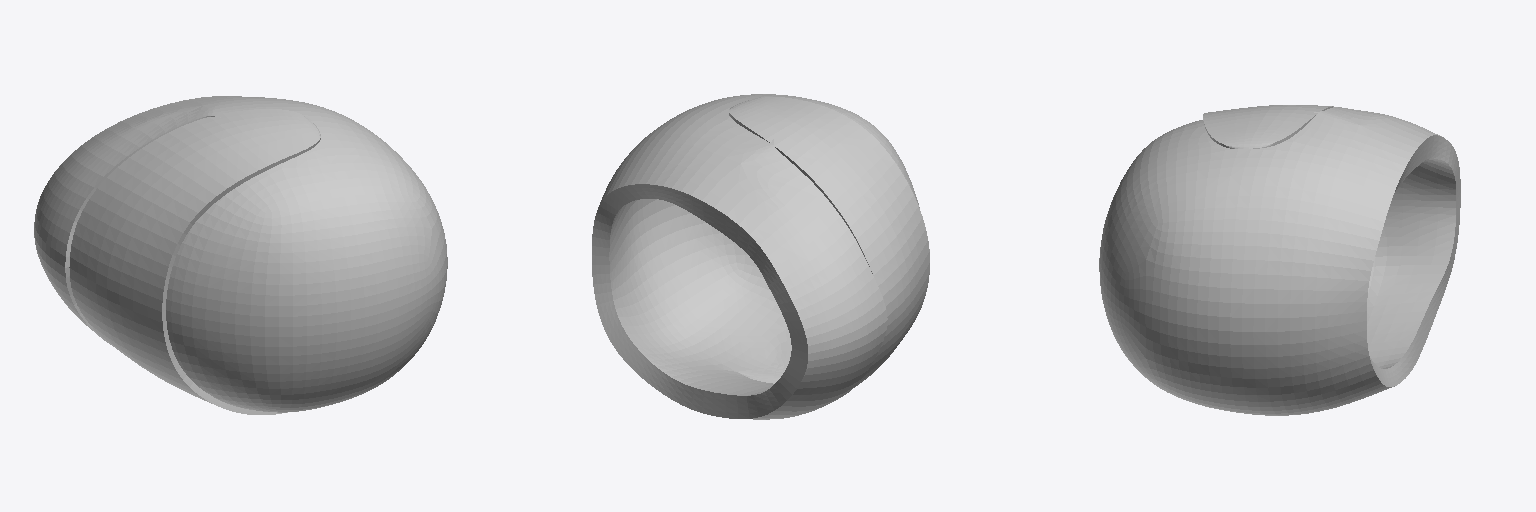
Rendered from 10517_Motorcycle_Helmet_v01_L3.obj.
3 views of the same model, side by side, from view 1: azimuth 30°, elevation 25°; view 2: azimuth 150°, elevation 25°; view 3: azimuth 270°, elevation 25° (orthographic).
Visible parts, largest first — view 1: 10517_Motorcycle_Helmet_v01; view 2: 10517_Motorcycle_Helmet_v01; view 3: 10517_Motorcycle_Helmet_v01.
Part boxes in pixels (bbox=[...]): 10517_Motorcycle_Helmet_v01: bbox=[34, 96, 447, 414]; 10517_Motorcycle_Helmet_v01: bbox=[592, 94, 929, 419]; 10517_Motorcycle_Helmet_v01: bbox=[1099, 105, 1460, 415].
Size of the model in its own units: 40.2 by 33.54 by 40.36.